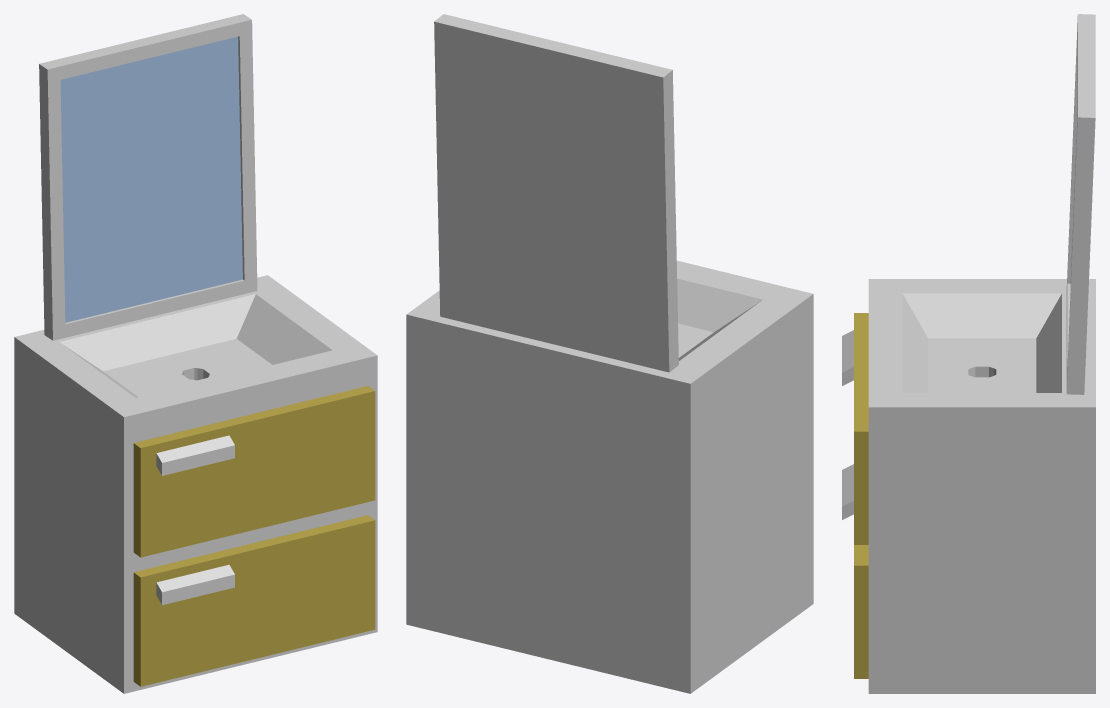
File: bathroom_sink.glb
3 views of the same model, side by side, from view 1: azimuth 30°, elevation 25°; view 2: azimuth 150°, elevation 25°; view 3: azimuth 270°, elevation 25° (orthographic). The views are drawn at different scales.
Parts seen in each view (by area): view 1: Cube.021; view 2: Cube.021; view 3: Cube.021.
Part boxes in pixels (<box>): Cube.021: <box>14,14,377,693</box>; Cube.021: <box>406,14,813,693</box>; Cube.021: <box>842,14,1095,693</box>.
Size of the model in its own units: 1.33 by 2.74 by 1.12.
